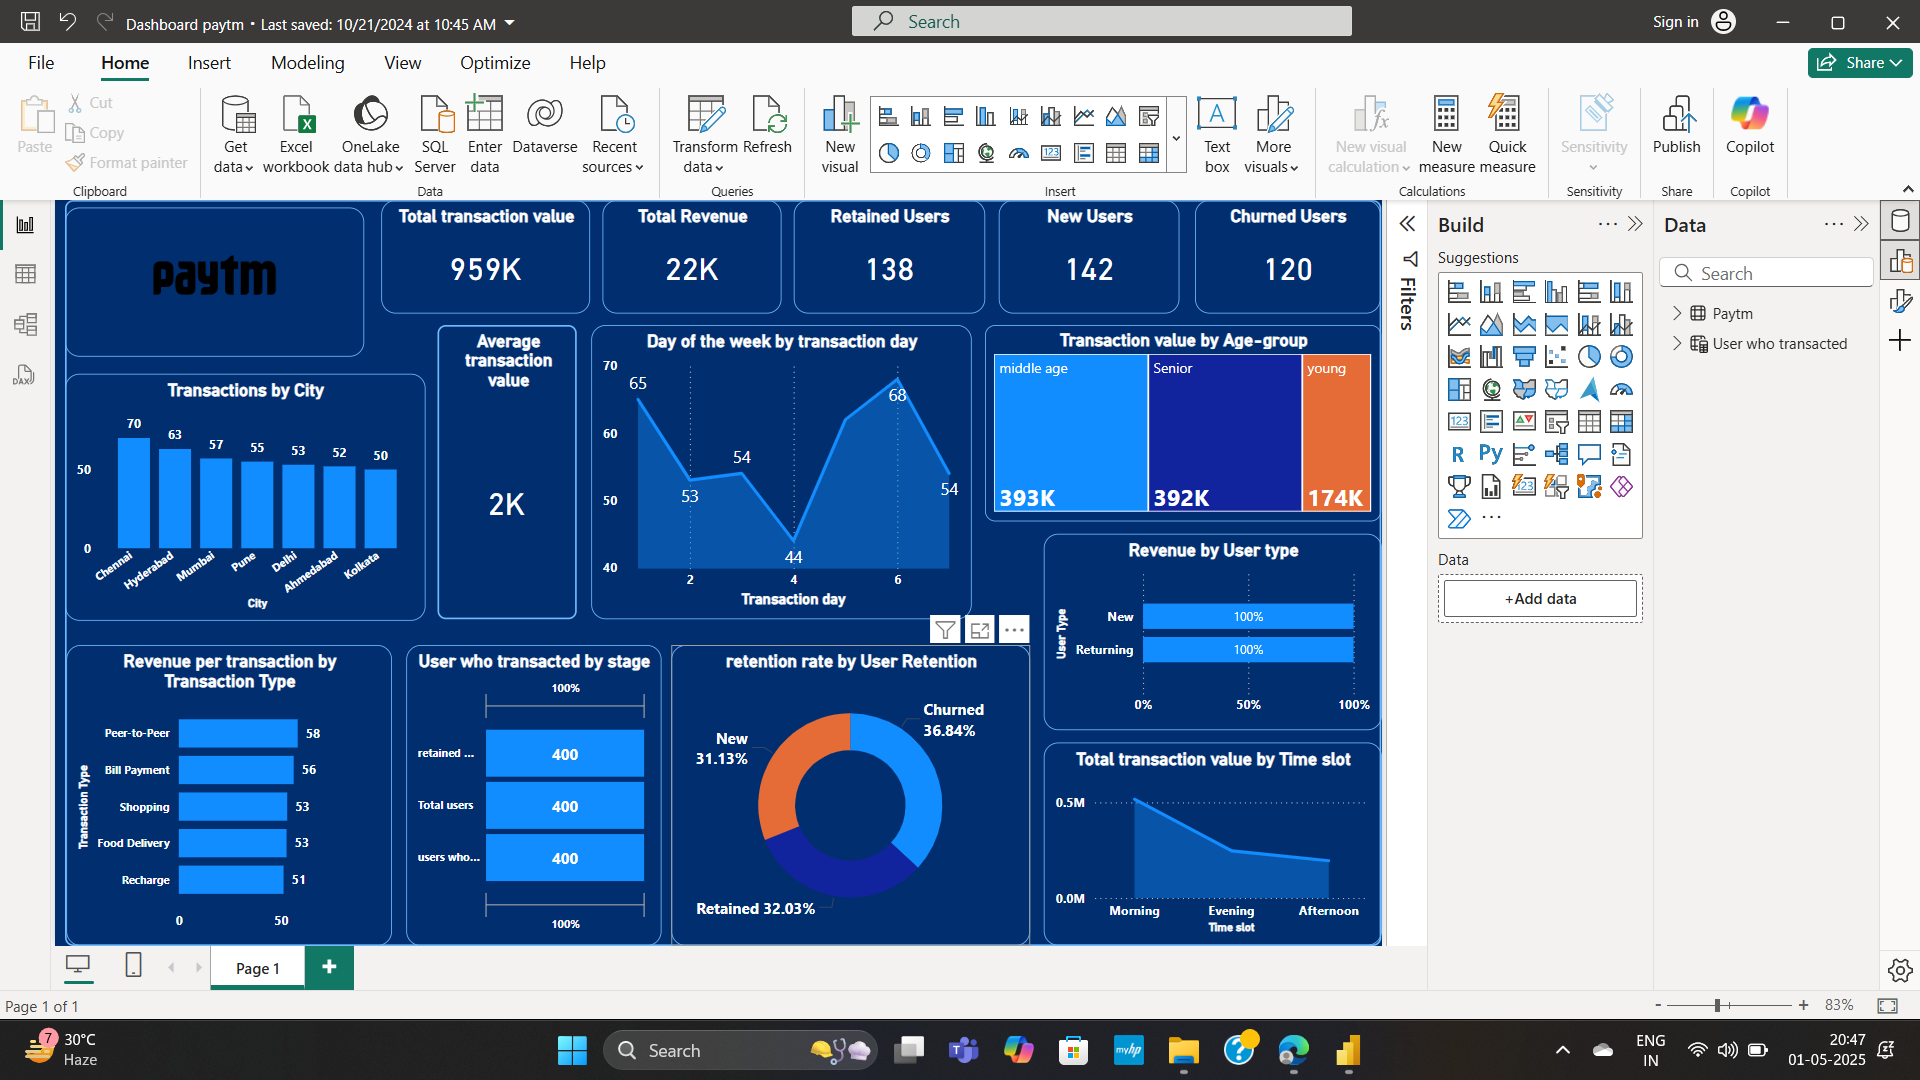

What the dashboard file says about the page in this screenshot:
{"tool":"powerbi","page":{"name":"Page 1","canvas":[1280,720],"ordinal":0},"visuals":[{"type":"textbox","box":[10,0,1270,719.6],"z":0},{"type":"card","title":"Total transaction value","fields":{"Values":["Paytm.Total transaction value"]},"box":[314.5,0,202,109.6],"z":1000},{"type":"card","title":"Average transaction value","fields":{"Values":["Paytm.Average transaction value"]},"box":[369.7,121.1,134.2,284.2],"z":2000},{"type":"card","title":"Total Revenue","fields":{"Values":["Paytm.Total revenue"]},"box":[528.1,0,173.1,109.6],"z":3000},{"type":"card","title":"New Users","fields":{"Values":["Paytm.New users"]},"box":[910.4,0,174.6,109.6],"z":4000},{"type":"card","title":"Retained Users","fields":{"Values":["Paytm.Retained Users"]},"box":[712.7,0,184.7,109.6],"z":5000},{"type":"card","title":"Churned Users","fields":{"Values":["Paytm.Churned users"]},"box":[1100.8,0,178.9,109.6],"z":6000},{"type":"columnChart","title":" Transactions by City","fields":{"Y":["CountNonNull(Paytm.Transaction ID)"],"Category":["Paytm.City"]},"box":[10.5,203.9,347.4,213.2],"z":7000},{"type":"areaChart","title":"Day of the week by transaction day","fields":{"Category":["Paytm.Transaction day"],"Y":["CountNonNull(Paytm.Day of the Week)"]},"box":[517.1,121.1,367.1,284.2],"z":8000},{"type":"treemap","title":"Transaction value by Age-group","fields":{"Values":["Sum(Paytm.Transaction Value)"],"Group":["Paytm.Age group"]},"box":[897.6,120.4,382.1,189.5],"z":9000},{"type":"stackedAreaChart","fields":{"Y":["Paytm.Total transaction value"],"Category":["Paytm.Time slot"]},"box":[953.9,523.7,326.3,196.1],"z":10000},{"type":"hundredPercentStackedBarChart","title":"Revenue by User type","fields":{"Y":["Sum(Paytm.Revenue)"],"Category":["Paytm.User Type"]},"box":[953.9,322.4,326.3,189.5],"z":11000},{"type":"funnel","title":"User who transacted by stage","fields":{"Y":["Paytm.User who transacted"],"Category":["User who transacted.Stage"]},"box":[339.5,428.9,246.1,290.8],"z":12000},{"type":"barChart","fields":{"Category":["Paytm.Transaction Type"],"Y":["Paytm.revenue per transaction"]},"box":[10.5,428.9,314.5,290.8],"z":13000},{"type":"image","box":[9.9,7.7,289,179.1],"z":14000},{"type":"donutChart","fields":{"Category":["Paytm.User Retention"],"Y":["Paytm.retention rate"]},"box":[594.7,417.1,346.1,302.6],"z":14001}]}

Visuals, with their boxes on the page's 1280x720 design canvas (x1, y1, x2, y2). These are canvas units, not pixel positions in the 1920x1080 screenshot, which may show the page scaled, cropped or inside an application window:
textbox: [x1=10, y1=0, x2=1280, y2=720]
"Total transaction value" card: [x1=314, y1=0, x2=516, y2=110]
"Average transaction value" card: [x1=370, y1=121, x2=504, y2=405]
"Total Revenue" card: [x1=528, y1=0, x2=701, y2=110]
"New Users" card: [x1=910, y1=0, x2=1085, y2=110]
"Retained Users" card: [x1=713, y1=0, x2=897, y2=110]
"Churned Users" card: [x1=1101, y1=0, x2=1280, y2=110]
" Transactions by City" columnChart: [x1=10, y1=204, x2=358, y2=417]
"Day of the week by transaction day" areaChart: [x1=517, y1=121, x2=884, y2=405]
"Transaction value by Age-group" treemap: [x1=898, y1=120, x2=1280, y2=310]
stackedAreaChart - Paytm.Total transaction value x Paytm.Time slot: [x1=954, y1=524, x2=1280, y2=720]
"Revenue by User type" hundredPercentStackedBarChart: [x1=954, y1=322, x2=1280, y2=512]
"User who transacted by stage" funnel: [x1=340, y1=429, x2=586, y2=720]
barChart - Paytm.Transaction Type x Paytm.revenue per transaction: [x1=10, y1=429, x2=325, y2=720]
image: [x1=10, y1=8, x2=299, y2=187]
donutChart - Paytm.User Retention x Paytm.retention rate: [x1=595, y1=417, x2=941, y2=720]
